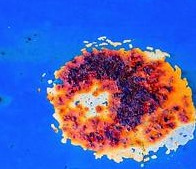Corrosion: (37, 35, 196, 169)
